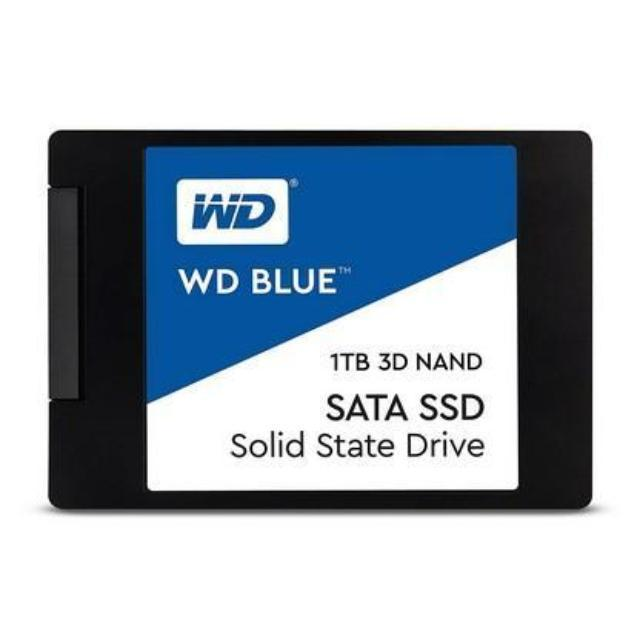DISK: (41, 122, 601, 520)
